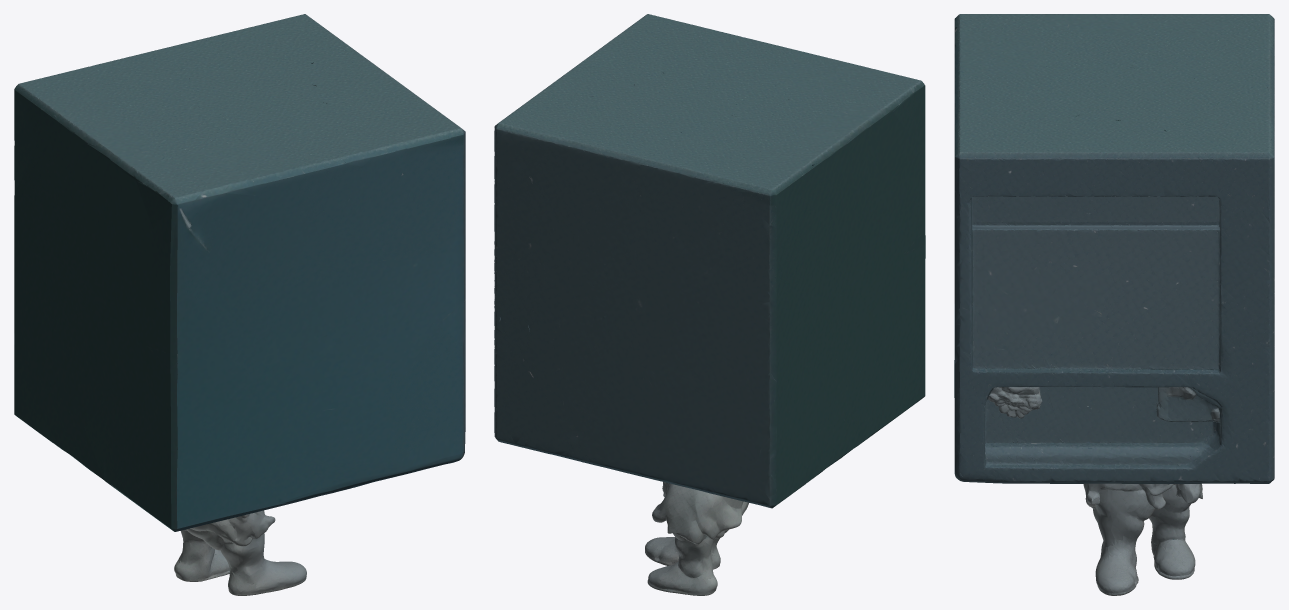
Rendered from TST-TOP-GM-52.glb.
3 views of the same model, side by side, from view 1: azimuth 30°, elevation 25°; view 2: azimuth 150°, elevation 25°; view 3: azimuth 270°, elevation 25° (orthographic). The views are drawn at different scales.
Parts seen in each view (by area): view 1: mesh_node; view 2: mesh_node; view 3: mesh_node.
Part boxes in pixels (x1,y1,x2,y2): mesh_node: (14,14,465,595); mesh_node: (494,14,925,595); mesh_node: (954,14,1274,595).
Size of the model in its own units: 0.2217 by 0.348 by 0.2096.
1 material, 1 textured.
